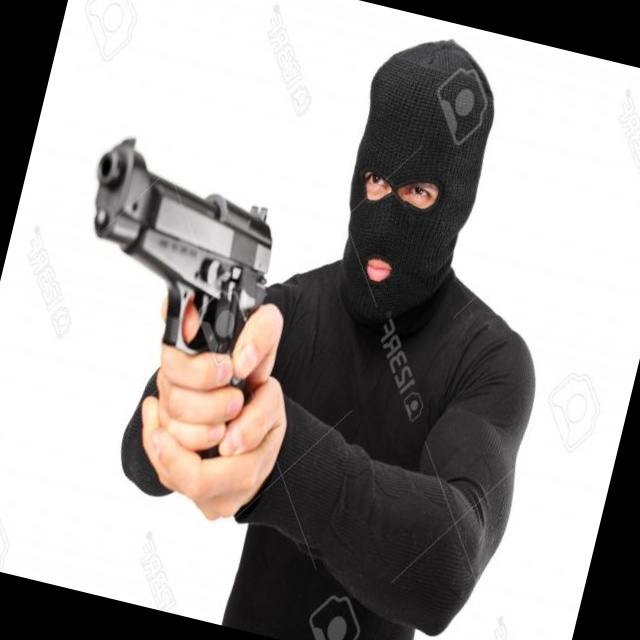gun: (15, 120, 311, 514)
